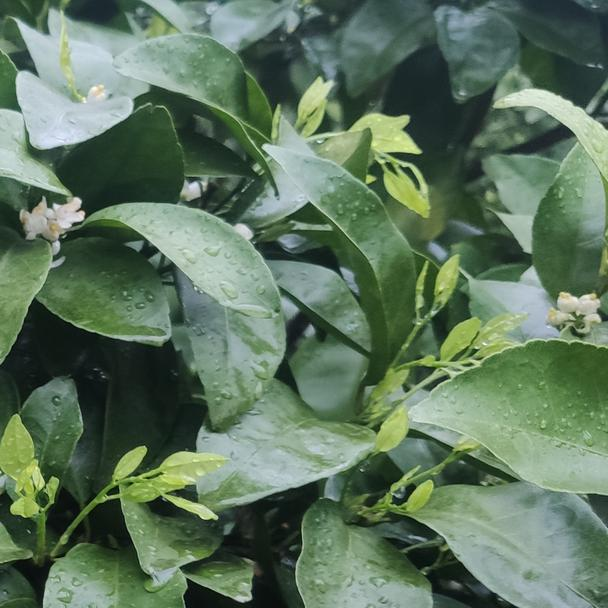shoot: (79, 441, 227, 541), (355, 111, 436, 212), (3, 425, 60, 565), (426, 322, 526, 378), (410, 258, 462, 322)
